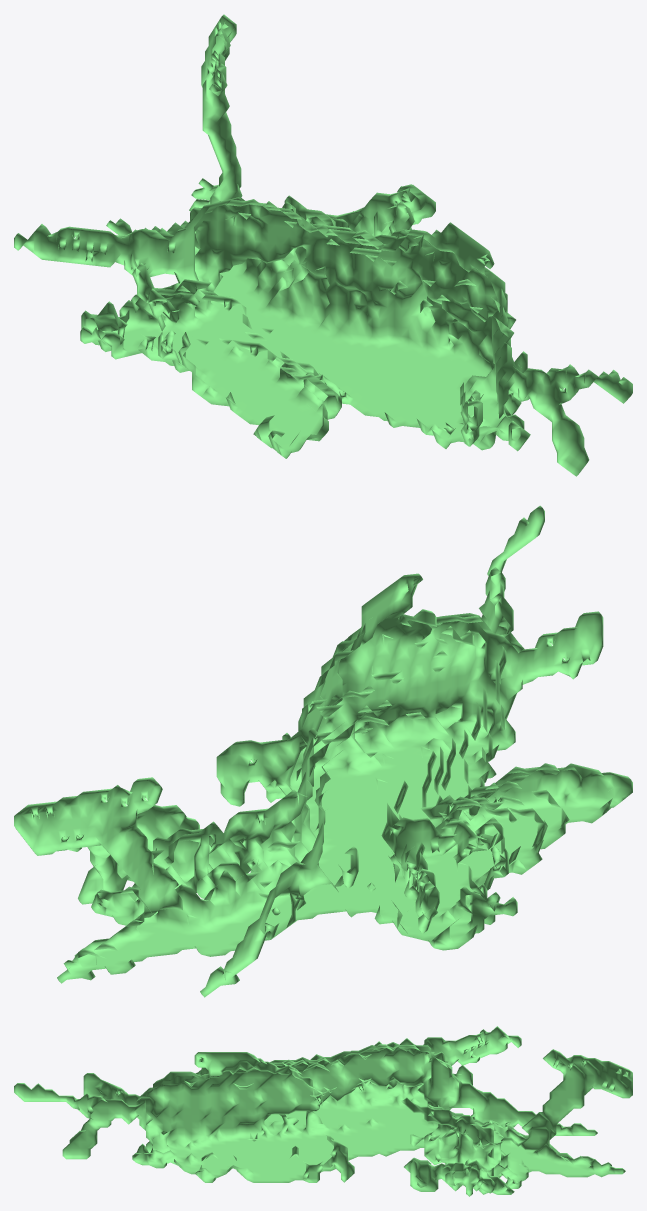
The model's file is osteocyte_11.glb.
3 renders of one model, top to bottom at view 1: azimuth 30°, elevation 25°; view 2: azimuth 150°, elevation 25°; view 3: azimuth 270°, elevation 25°, orthographic. The views are drawn at different scales.
Visible parts, largest first — view 1: osteocyte_11; view 2: osteocyte_11; view 3: osteocyte_11.
Part boxes in pixels (x1,y1,x2,y2): osteocyte_11: (14, 14, 632, 476); osteocyte_11: (14, 505, 632, 997); osteocyte_11: (14, 1026, 632, 1196).
Size of the model in its own units: 20.12 by 8.05 by 39.79.
